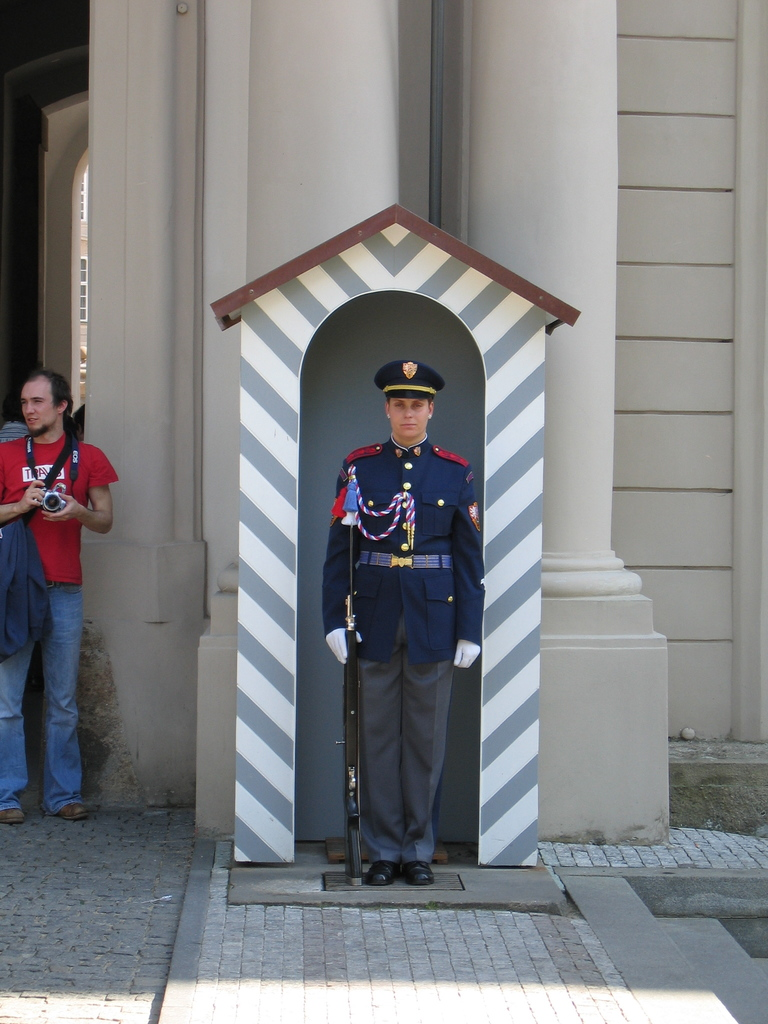Footwear: (396, 856, 433, 891), (360, 863, 396, 886), (58, 804, 86, 820), (0, 811, 24, 825)
